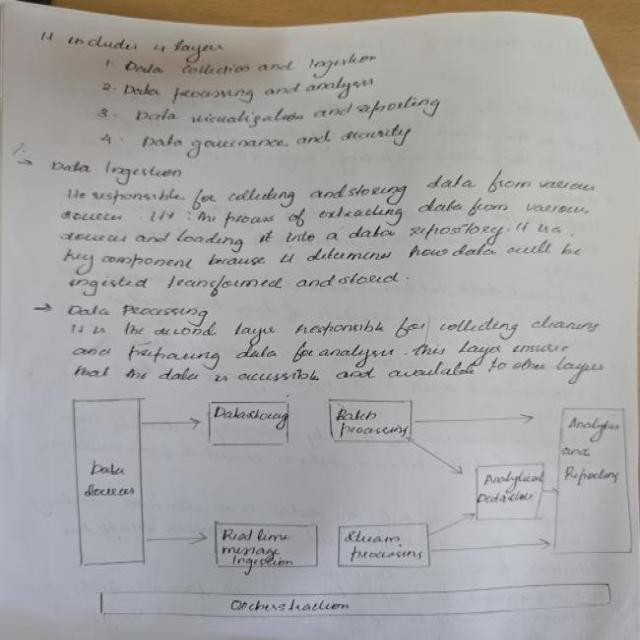Figure Detection - v3 Dataset Version2: (52, 387, 640, 625)
